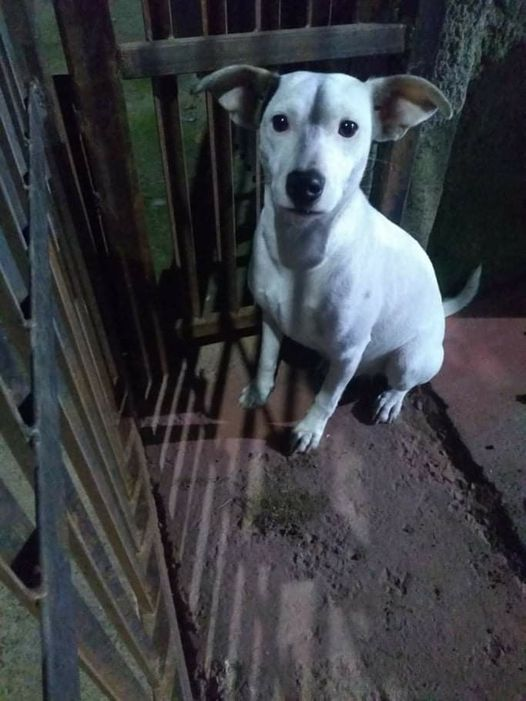dog: (195, 54, 497, 472)
